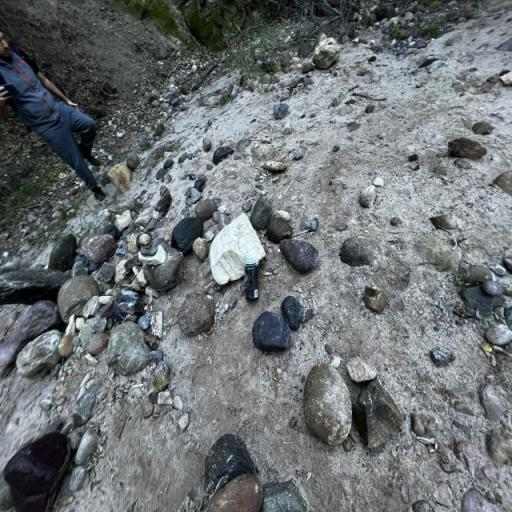bottle: (242, 255, 260, 302)
